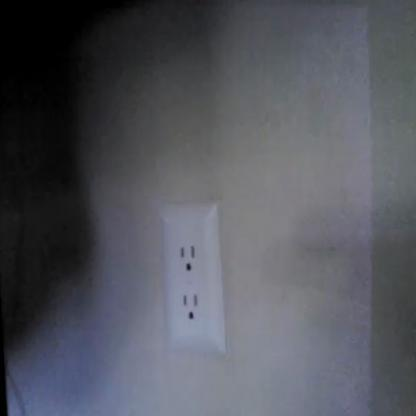OUTLET: (159, 204, 227, 358)
